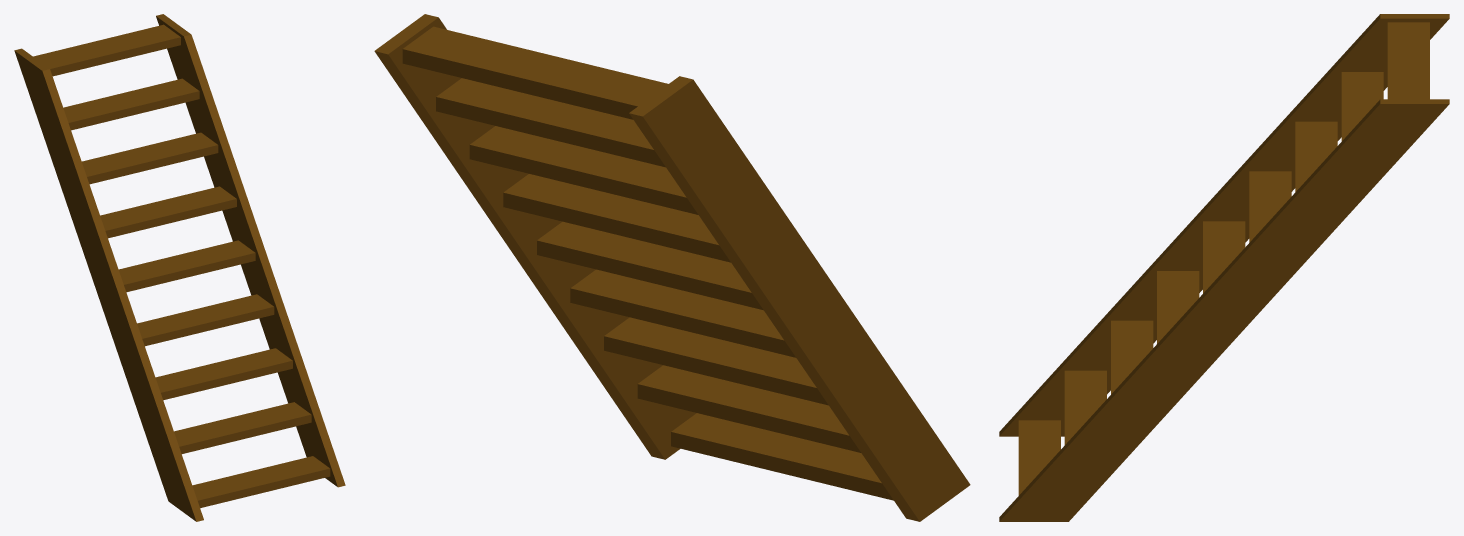
File: Stairs.glb
3 views of the same model, side by side, from view 1: azimuth 30°, elevation 25°; view 2: azimuth 150°, elevation 25°; view 3: azimuth 270°, elevation 25° (orthographic). The views are drawn at different scales.
Visible parts, largest first — view 1: Stairs_Cube.003; view 2: Stairs_Cube.003; view 3: Stairs_Cube.003.
Boxes of the visible parts, x1,y1,x2,y2 form: Stairs_Cube.003: (14, 14, 345, 521); Stairs_Cube.003: (374, 14, 970, 521); Stairs_Cube.003: (999, 14, 1449, 521).
Size of the model in its own units: 1.45 by 3.14 by 3.06.
